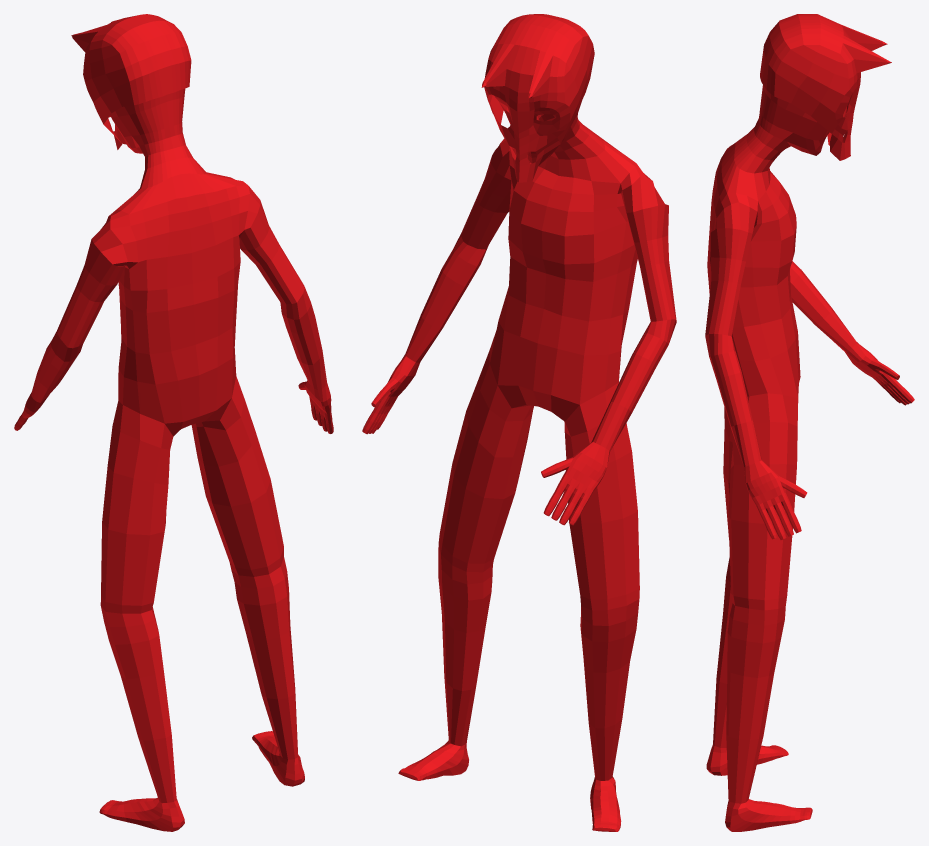
The model's file is reposoE_000320.obj.
3 views of the same model, side by side, from view 1: azimuth 30°, elevation 25°; view 2: azimuth 150°, elevation 25°; view 3: azimuth 270°, elevation 25° (orthographic). The views are drawn at different scales.
Visible parts, largest first — view 1: Plane.002_Plane.001; view 2: Plane.002_Plane.001; view 3: Plane.002_Plane.001.
Boxes of the visible parts, x1,y1,x2,y2 form: Plane.002_Plane.001: (14,14,333,831); Plane.002_Plane.001: (362,14,676,831); Plane.002_Plane.001: (705,14,914,831).
Size of the model in its own units: 2.7 by 7.12 by 1.78.
